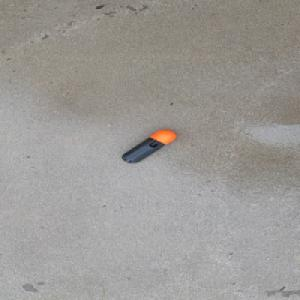PlasticPart: (121, 129, 177, 163)
